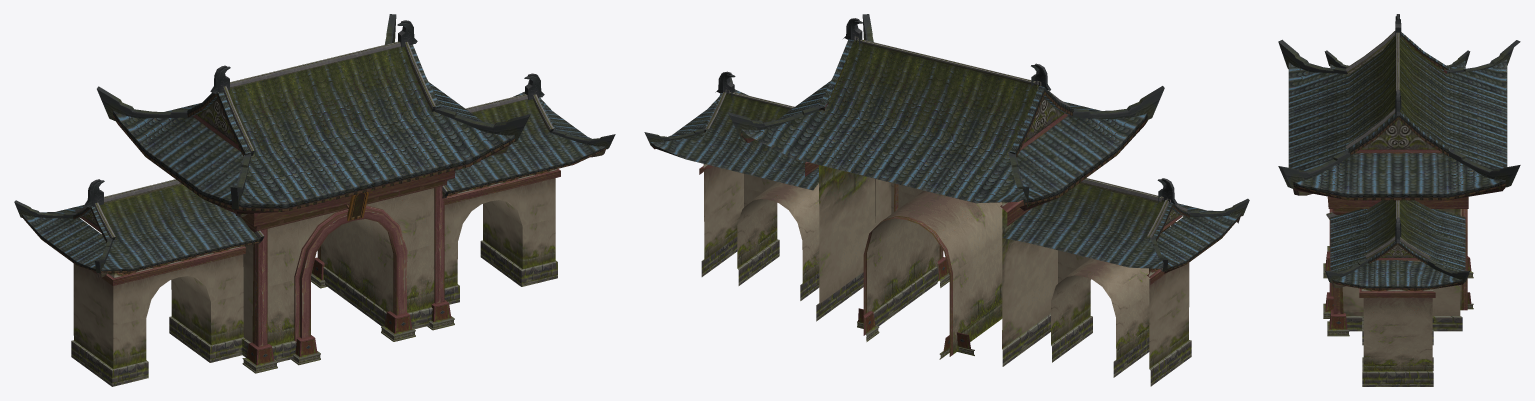
The model's file is 4009_Item_jianzhu_5.FBX.
3 renders of one model, left to right at view 1: azimuth 30°, elevation 25°; view 2: azimuth 150°, elevation 25°; view 3: azimuth 270°, elevation 25°, orthographic. The views are drawn at different scales.
Parts seen in each view (by area): view 1: 4009_Item_jianzhu_5; view 2: 4009_Item_jianzhu_5; view 3: 4009_Item_jianzhu_5.
Part boxes in pixels (<box>): 4009_Item_jianzhu_5: <box>14,14,615,386</box>; 4009_Item_jianzhu_5: <box>644,14,1249,386</box>; 4009_Item_jianzhu_5: <box>1278,14,1520,386</box>.
Size of the model in its own units: 2245 by 1038 by 1140.
